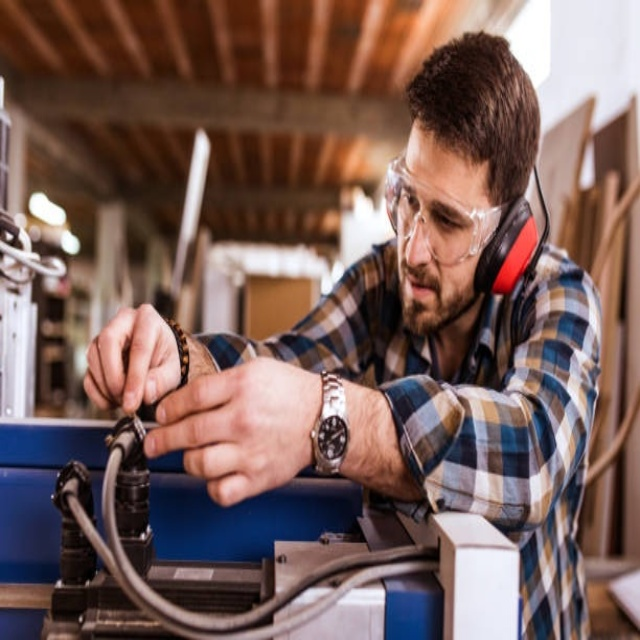Gafas: (385, 151, 511, 269)
Sin_guantes: (141, 354, 329, 506), (84, 300, 192, 416)
Sin_mascara: (398, 267, 445, 322)
